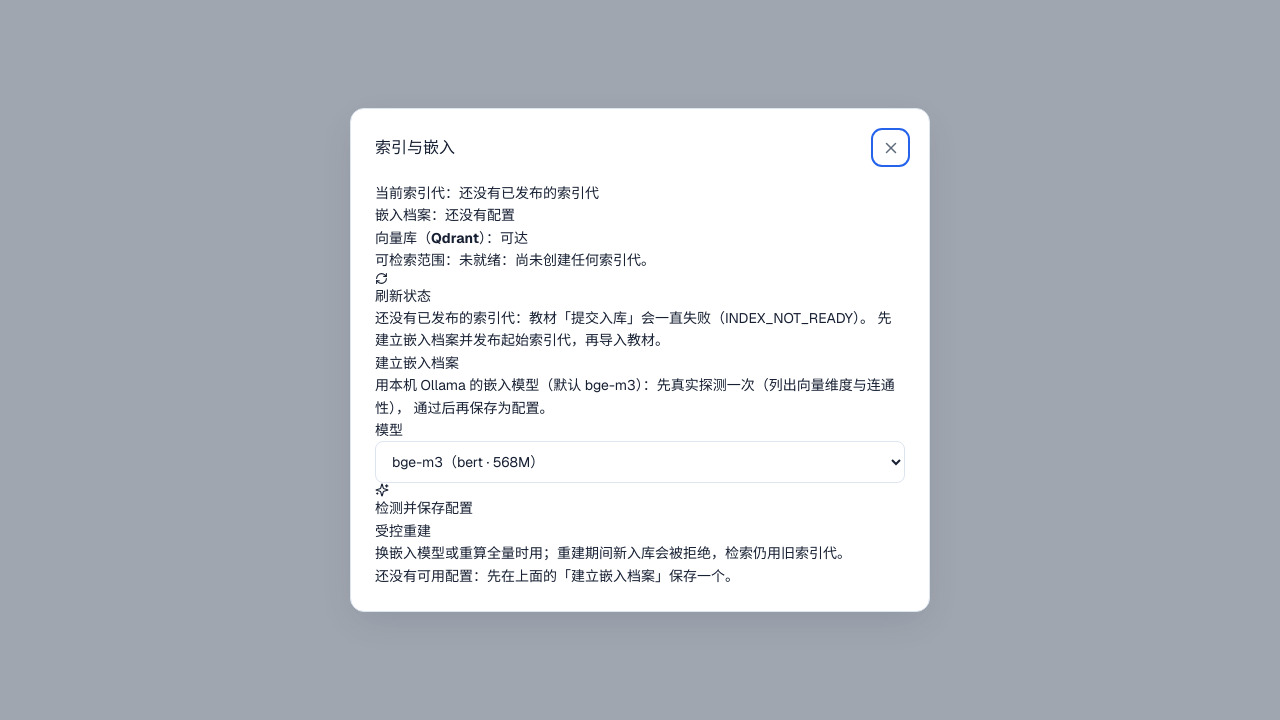
Test: 索引与嵌入面板 › 无索引代：醒目提示 + 建立档案（探针/保存）→ 发起受控重建 → 刷新出已发布索引代
Expected: the text with test id "textbook-index-no-generation" shows "提交入库", top-left (375, 309), bottom-right (891, 349)
Expected: the dropdown with test id "textbook-embedding-model" shows "bge-m3（bert · 568M）", top-left (375, 441), bottom-right (905, 483)
Click the button with test id "textbook-embedding-save" at (424, 502), box top-left (375, 483), bottom-right (473, 520)
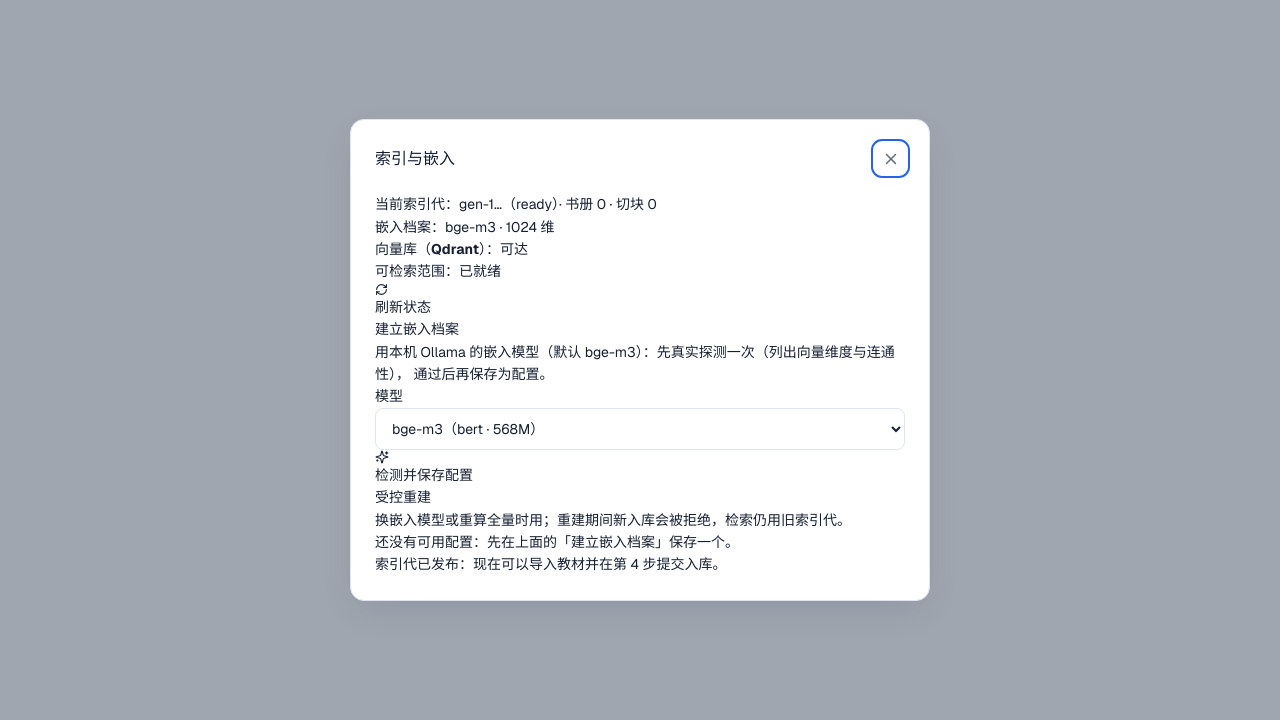
Now the message with test id "textbook-index-notice" shows "索引代已发布", box top-left (375, 555), bottom-right (727, 573)
Now the text with test id "textbook-index-no-generation" is gone
Now the element with test id "textbook-index-status" shows "gen-1…", box top-left (459, 195), bottom-right (657, 213)
